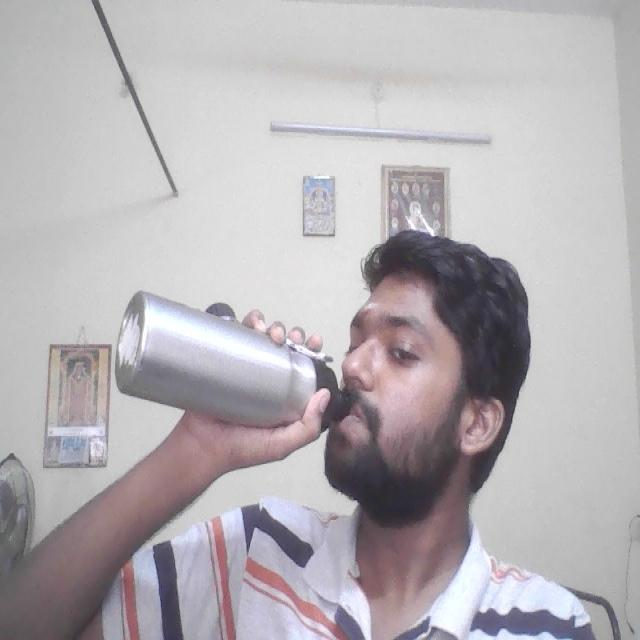Drinking: (108, 282, 353, 446)
